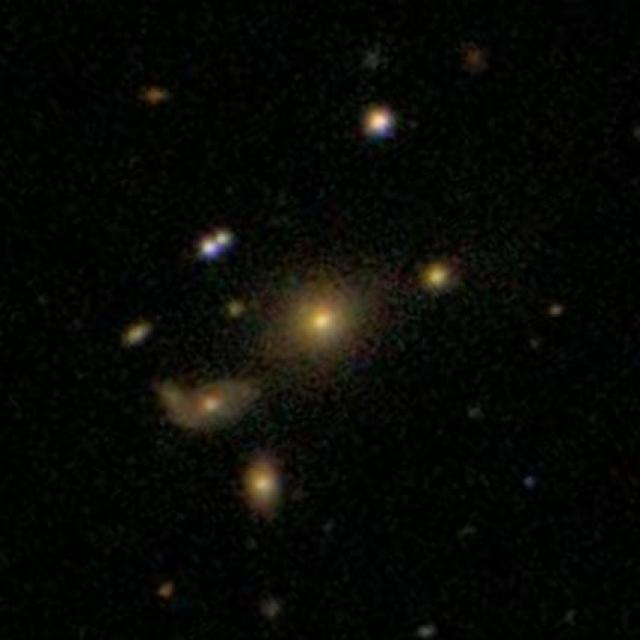galaxy: (256, 254, 398, 378), (149, 367, 269, 423), (239, 456, 288, 518), (418, 256, 466, 308), (194, 226, 237, 265), (356, 41, 392, 82), (358, 105, 397, 141), (119, 316, 156, 352), (457, 42, 491, 80), (133, 83, 170, 109), (257, 594, 285, 621), (415, 620, 447, 640), (222, 294, 247, 319), (155, 582, 182, 598), (545, 300, 566, 318), (523, 475, 540, 493)
